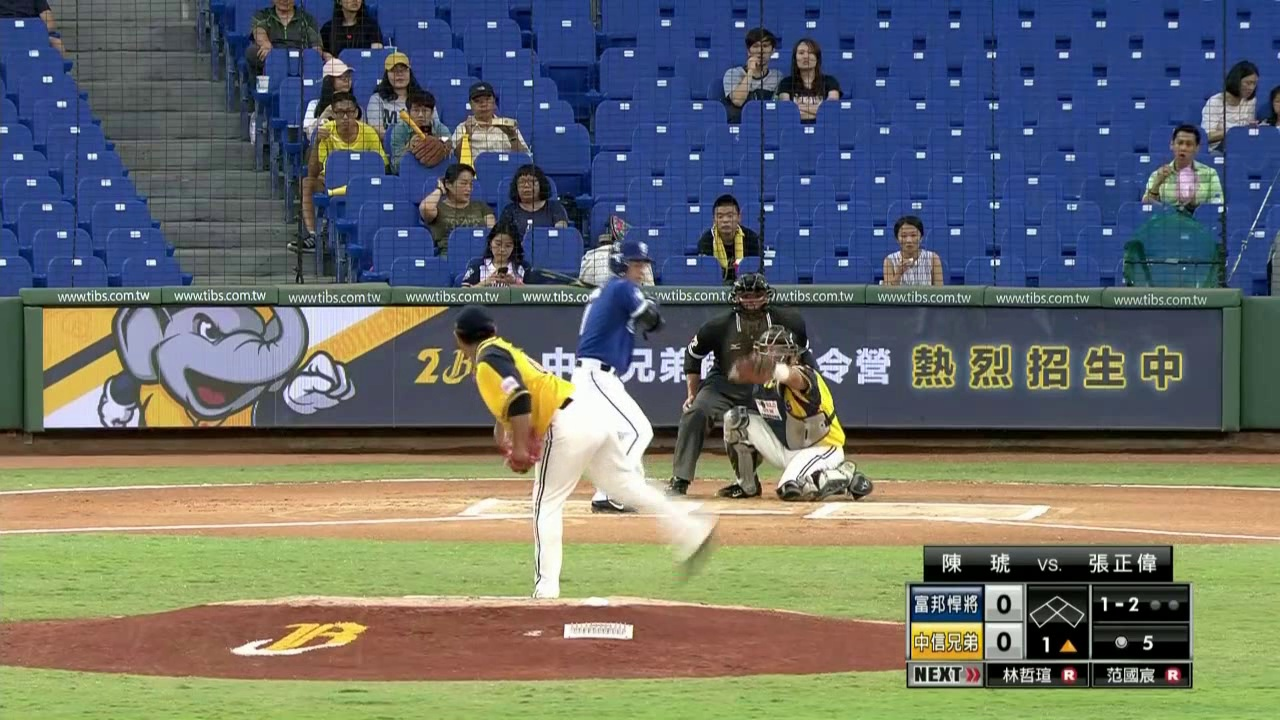base: (1025, 588, 1090, 635)
bat: (535, 266, 595, 294)
out: (1148, 589, 1178, 619)
score1: (992, 589, 1020, 621)
score2: (988, 627, 1018, 659)
session: (1027, 634, 1088, 658)
strikeball: (1098, 592, 1143, 618)
total: (1108, 627, 1162, 656)
